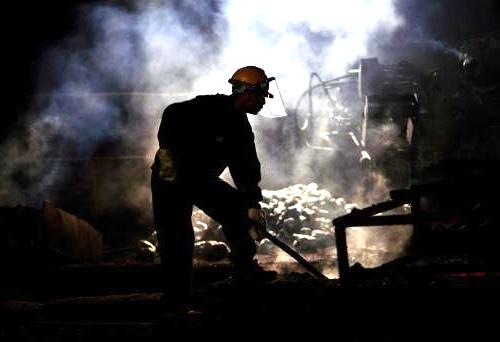helmet: (227, 65, 270, 115)
